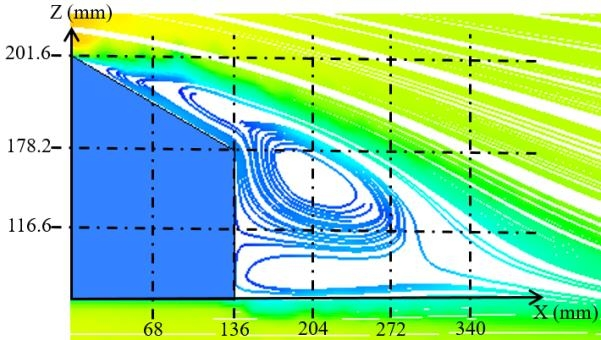vortox: (237, 120, 409, 245)
